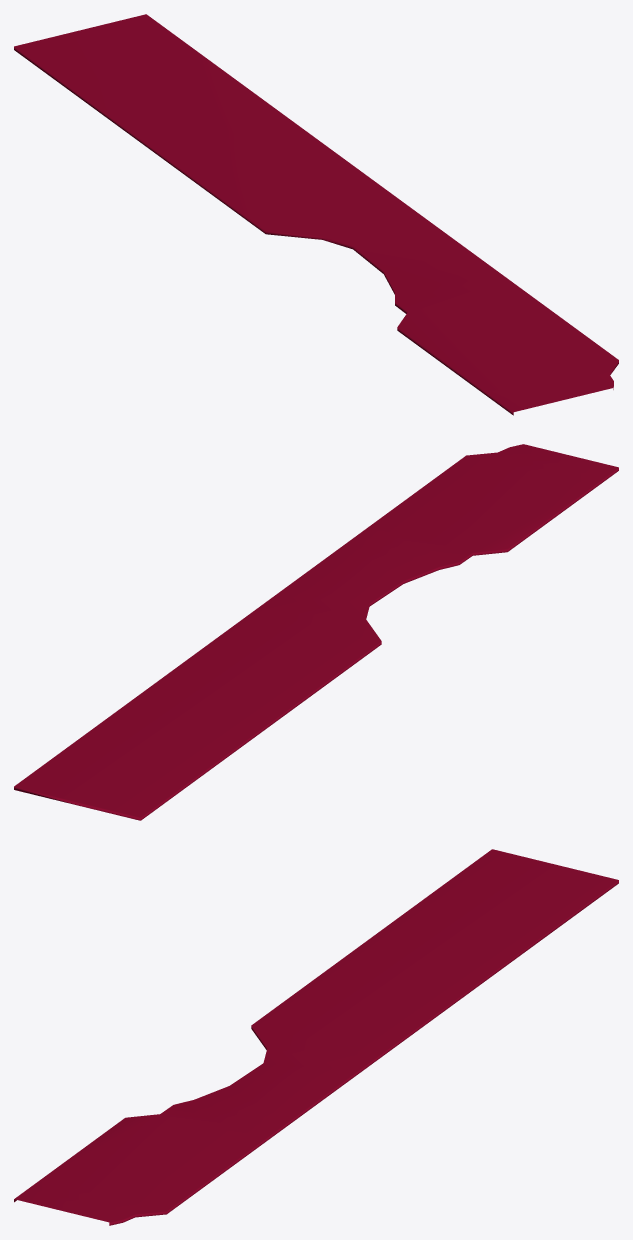
Rendered from Cathedral_Carpet5.fbx.
The picture shows the model from 3 angles, top to bottom: view 1: azimuth 30°, elevation 25°; view 2: azimuth 150°, elevation 25°; view 3: azimuth 330°, elevation 25°; orthographic projection. The views are drawn at different scales.
Parts seen in each view (by area): view 1: Carpet5; view 2: Carpet5; view 3: Carpet5.
Part boxes in pixels (x1,y1,x2,y2): Carpet5: [14, 14, 618, 415]; Carpet5: [14, 444, 618, 820]; Carpet5: [14, 849, 618, 1225].
Bounding box in the file's own units: 506 × 12.9 × 3308.
